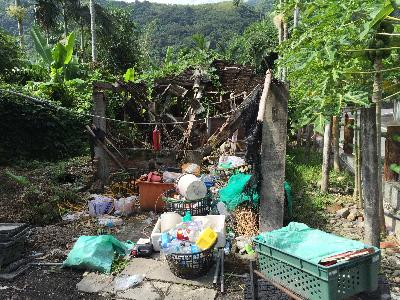bottle: (196, 226, 218, 252), (129, 236, 153, 257)
box: (137, 173, 177, 210)
bucket: (176, 173, 207, 201), (158, 209, 182, 237)
plastic_bag: (68, 234, 115, 274), (220, 173, 252, 207)
